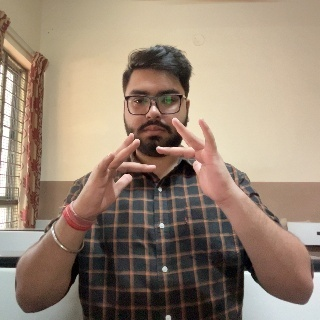Internet: (82, 118, 242, 217)
